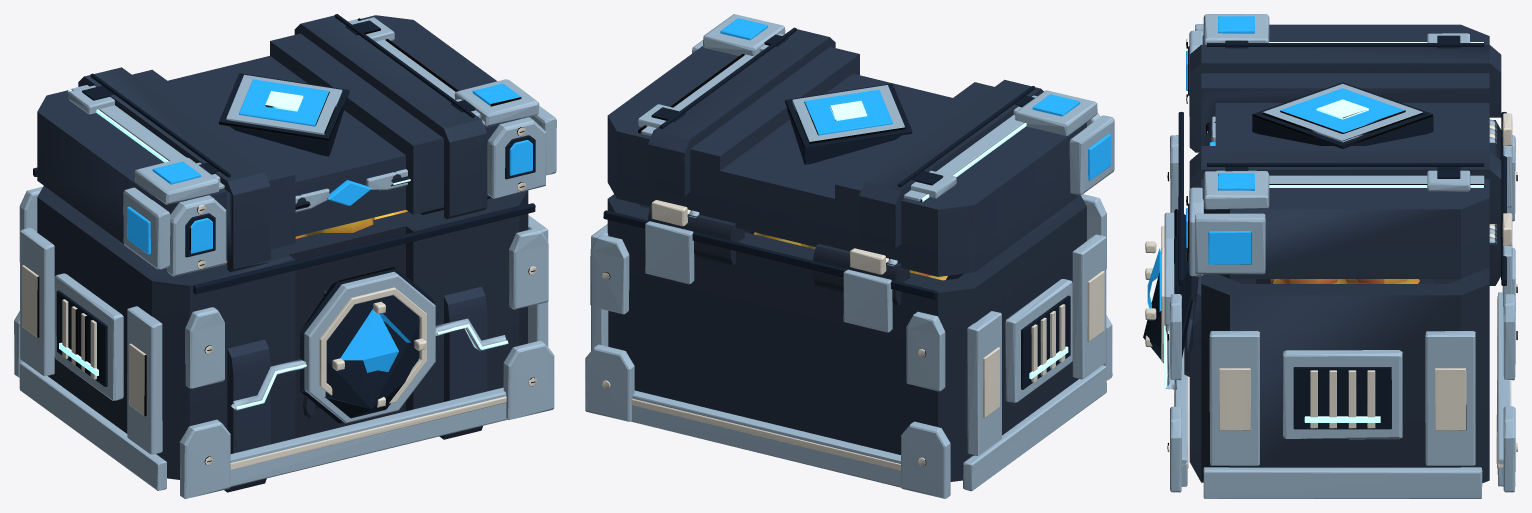
File: cobalt-vault.glb
3 renders of one model, left to right at view 1: azimuth 30°, elevation 25°; view 2: azimuth 150°, elevation 25°; view 3: azimuth 270°, elevation 25°, orthographic. The views are drawn at different scales.
Parts seen in each view (by area): view 1: Body, LidShell; view 2: Body, LidShell; view 3: Body, LidShell, CoinPile.
Part boxes in pixels (<box>): Body: <box>14,167,554,498</box>; LidShell: <box>37,14,556,276</box>; Body: <box>585,194,1112,498</box>; LidShell: <box>607,14,1114,276</box>; Body: <box>1143,111,1517,498</box>; LidShell: <box>1186,14,1512,278</box>; CoinPile: <box>1270,279,1419,283</box>.
Bounding box in the file's own units: 2.2 × 1.61 × 1.71.
2 materials, 2 textured.
